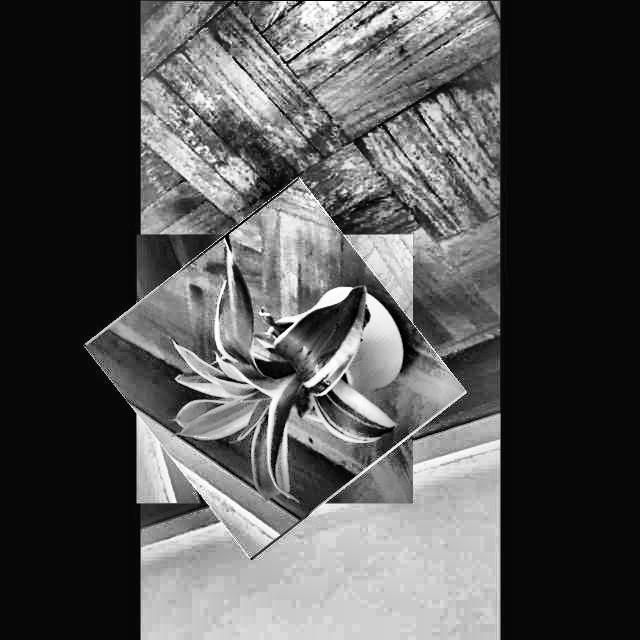plants: (110, 205, 438, 532)
